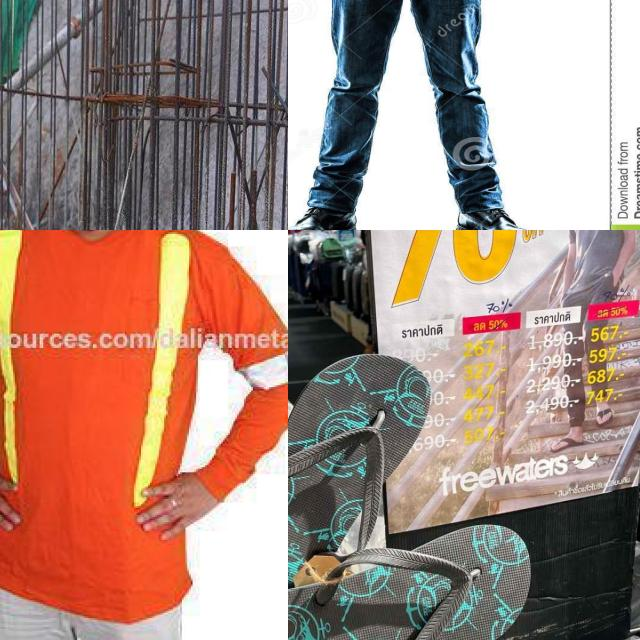Sandals: (288, 346, 550, 640)
hand_noglove: (145, 465, 219, 540), (0, 456, 29, 539)
person: (0, 230, 250, 640), (288, 0, 537, 230)
shoes: (441, 207, 540, 230), (288, 201, 358, 230)
vest: (0, 230, 206, 525)
